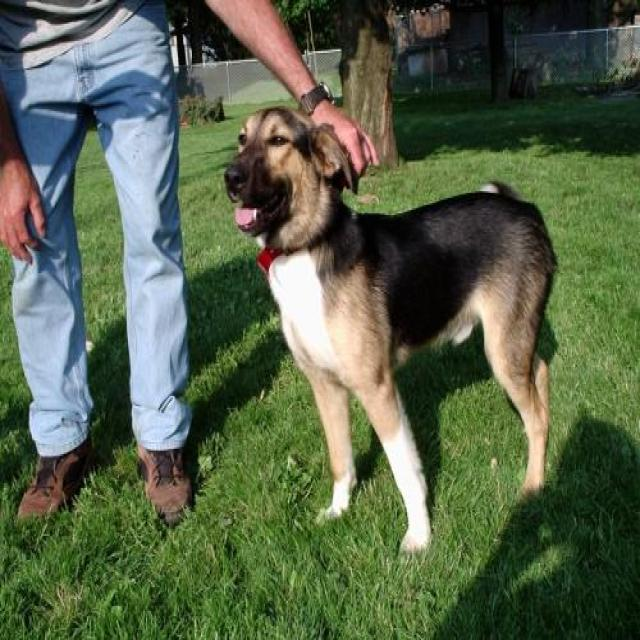Dogs: (223, 102, 558, 555)
